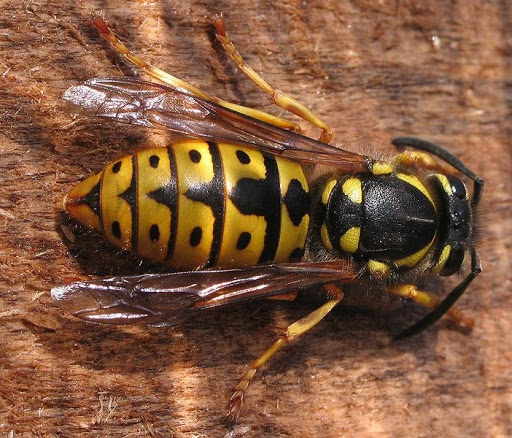chax: (26, 27, 496, 395)
